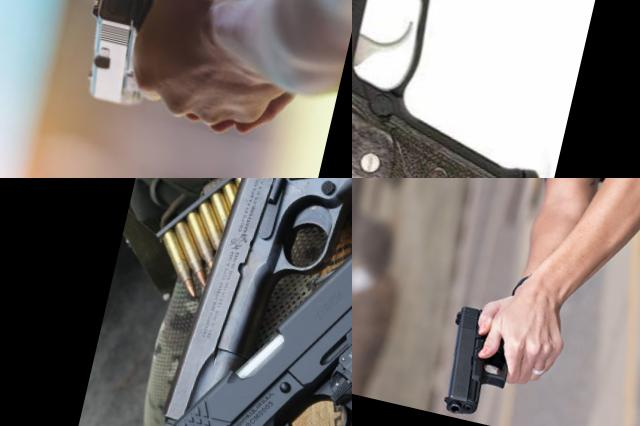handgun: (101, 178, 352, 426), (153, 178, 352, 426), (352, 0, 615, 178), (68, 0, 201, 120), (429, 297, 534, 426)
